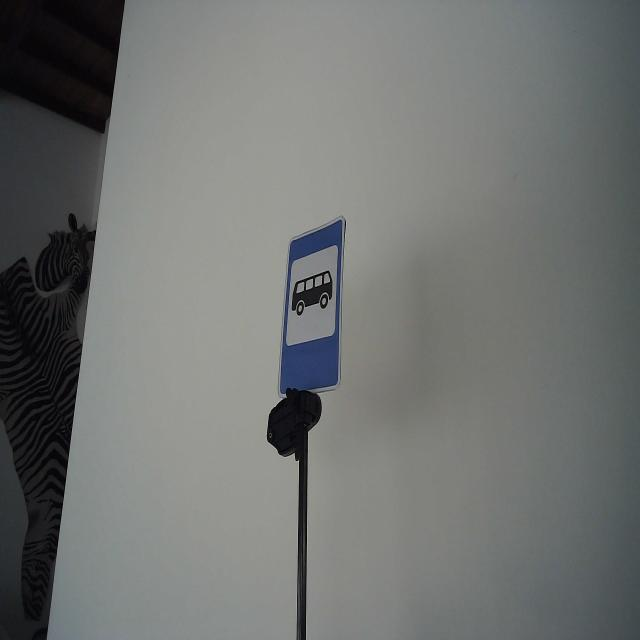bus_stop: (277, 215, 348, 394)
